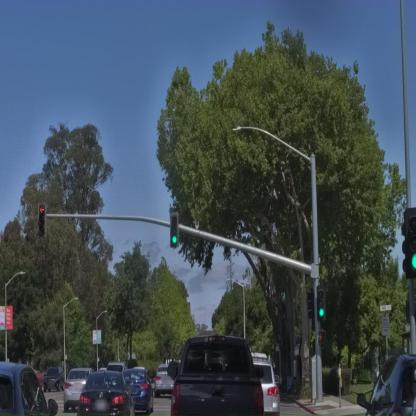car: (170, 336, 266, 416), (352, 329, 416, 416), (0, 360, 58, 416), (76, 370, 136, 416), (122, 366, 155, 416), (253, 358, 281, 416), (63, 370, 94, 412), (154, 364, 176, 398), (42, 366, 63, 392)
